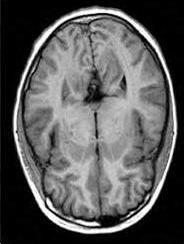Normal_Brain: (1, 1, 181, 240)
